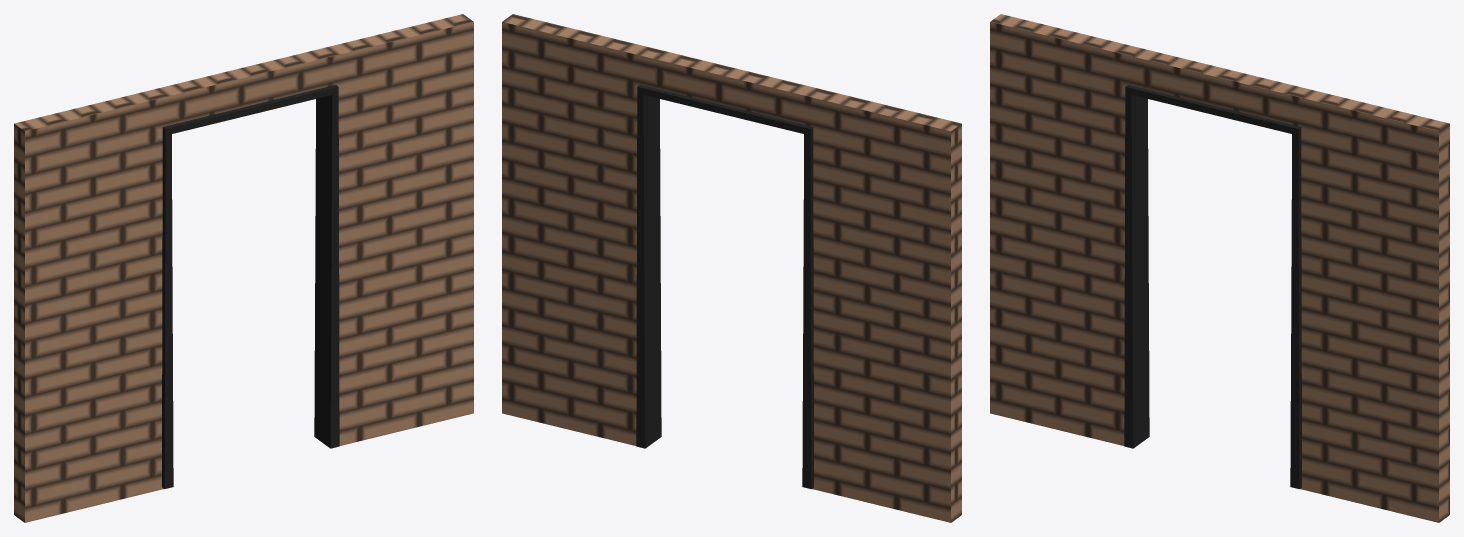
The model's file is SM_wall_brick_door_01.fbx.
3 renders of one model, left to right at view 1: azimuth 30°, elevation 25°; view 2: azimuth 150°, elevation 25°; view 3: azimuth 330°, elevation 25°, orthographic.
Visible parts, largest first — view 1: wall_brick_door_01; view 2: wall_brick_door_01; view 3: wall_brick_door_01.
Boxes of the visible parts, <box> form: wall_brick_door_01: <box>14,14,473,522</box>; wall_brick_door_01: <box>502,14,961,522</box>; wall_brick_door_01: <box>990,14,1449,522</box>.
Bounding box in the file's own units: 300 × 250 × 18.75.
2 materials, 1 textured.
